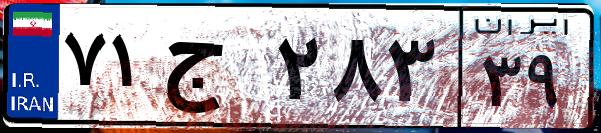1: (110, 28, 158, 98)
2: (270, 28, 330, 110)
3: (385, 28, 445, 110), (475, 38, 525, 113)
7: (57, 26, 110, 100)
8: (330, 28, 385, 110)
9: (525, 38, 570, 115)
ج: (158, 20, 270, 120)
